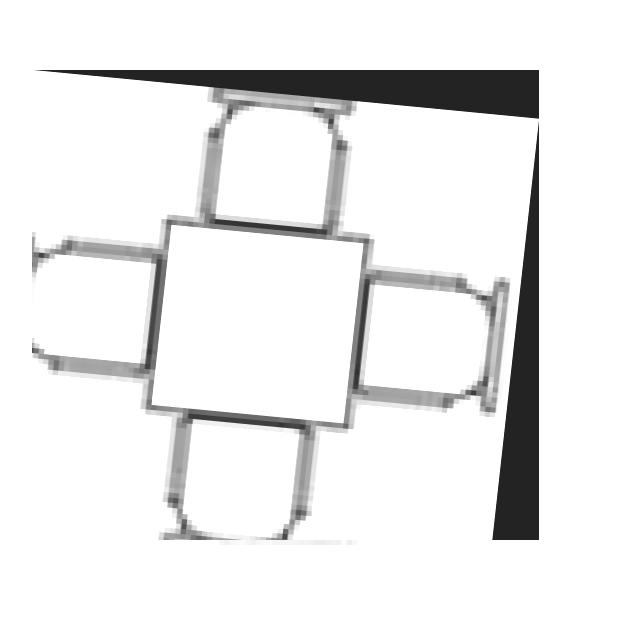table: (32, 70, 539, 540)
